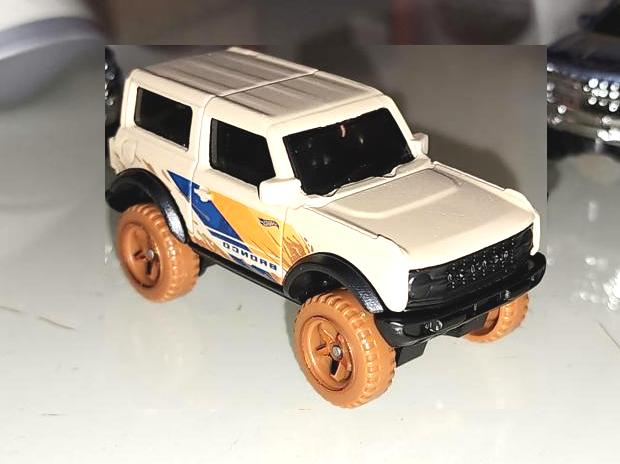toy-car: (106, 46, 548, 410), (528, 0, 620, 166)
